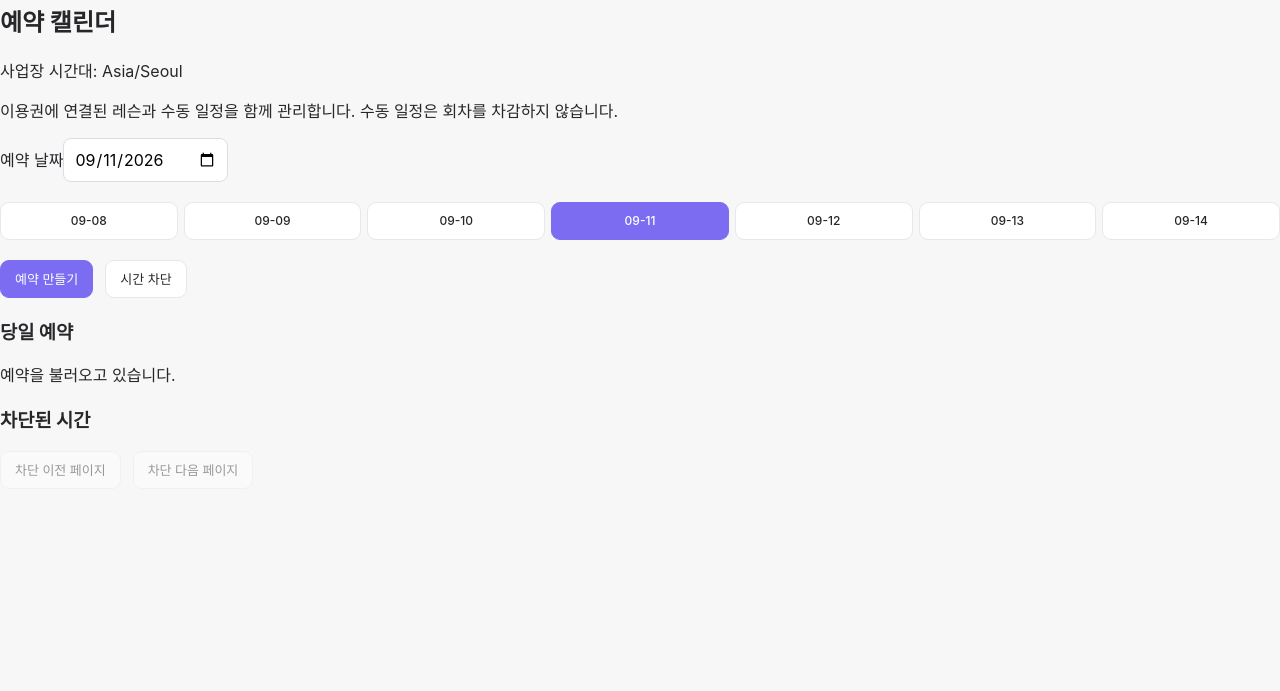
Test: creates an API-backed manual booking and displays a server conflict
Click the button "예약 만들기" at point(47, 279), box [0,260,93,298]
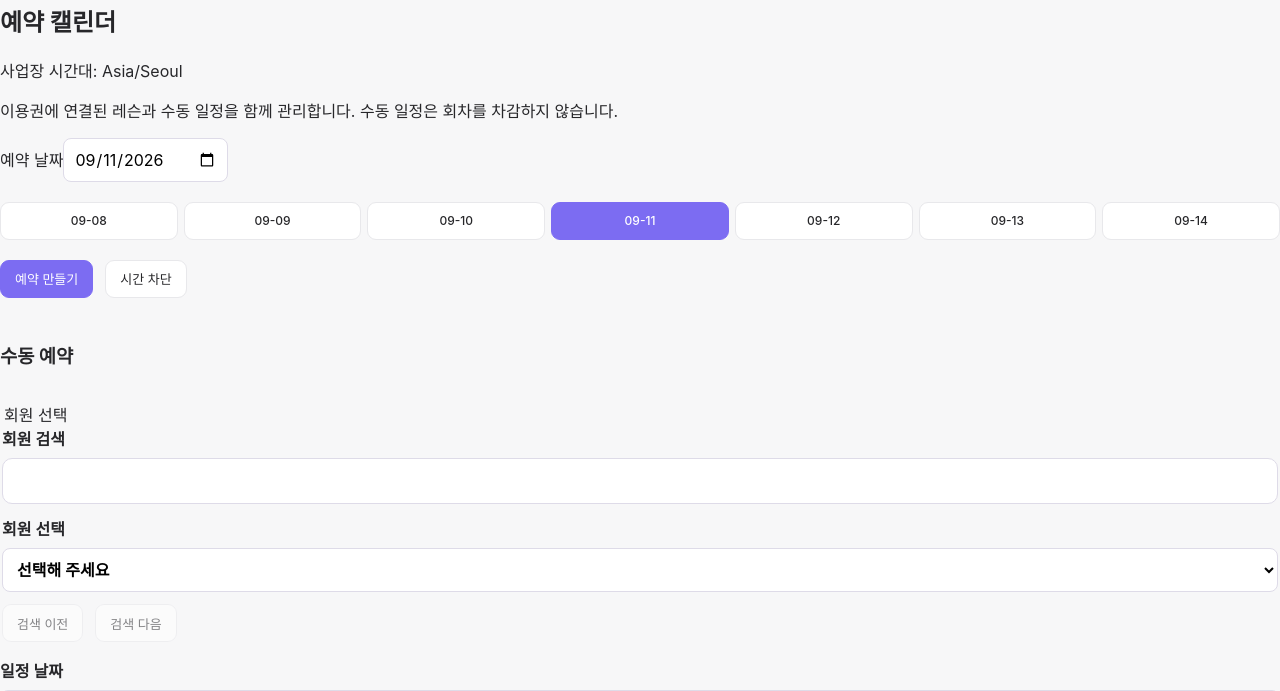
Select "Customer · 01012345678" in the dropdown labelled "회원 선택" at point(640, 570), box [2,548,1278,592]
(page scrolled)
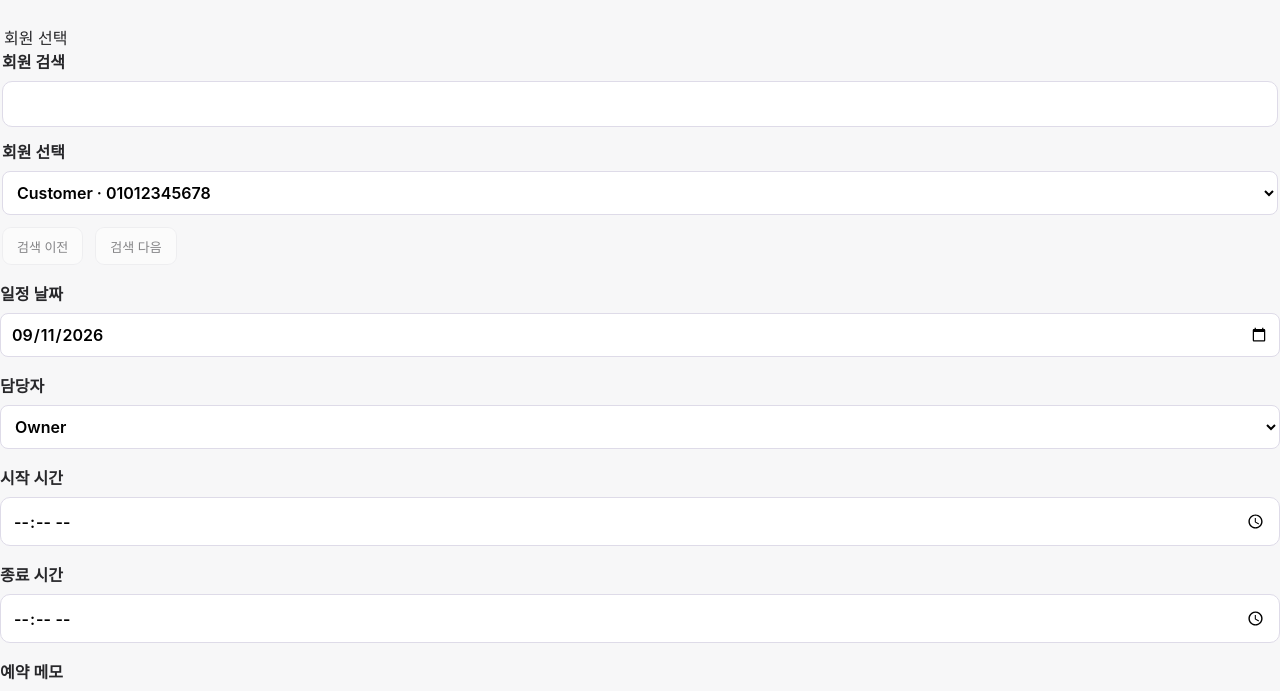
Type "2030-01-01" into the date field labelled "일정 날짜" at point(640, 335), box [0,313,1279,357]
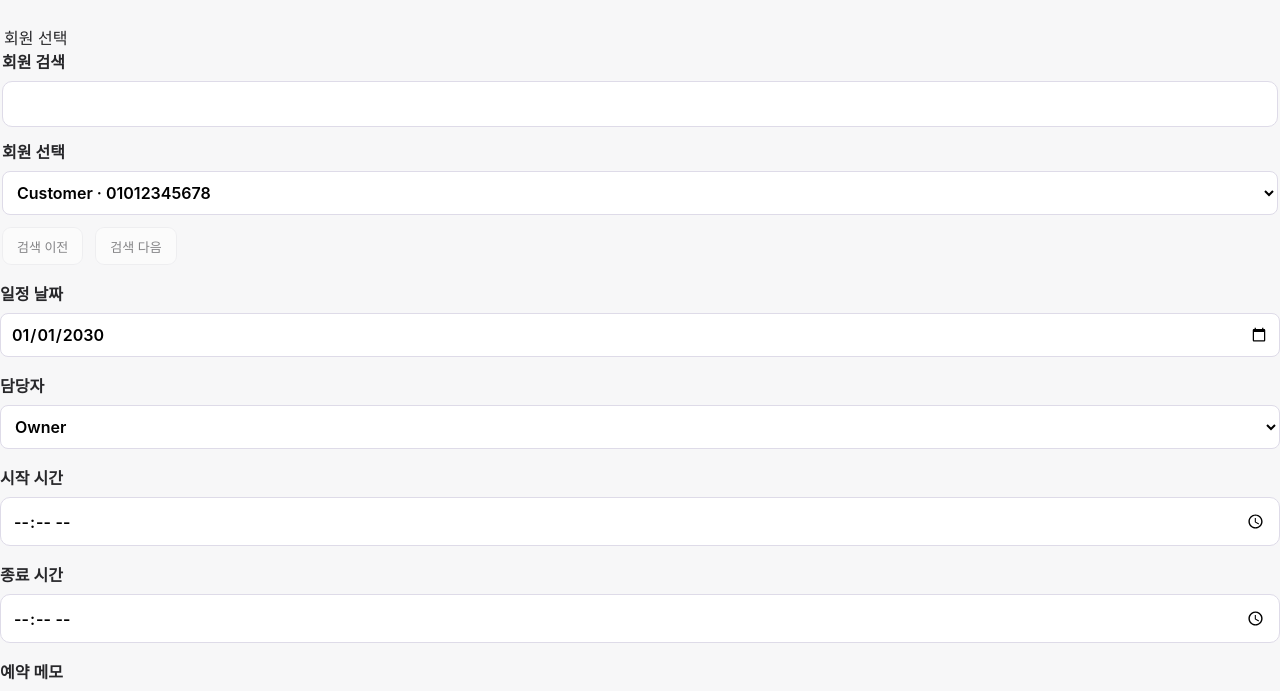
Type "10:00" into the time field labelled "시작 시간" at point(640, 522), box [0,497,1279,546]
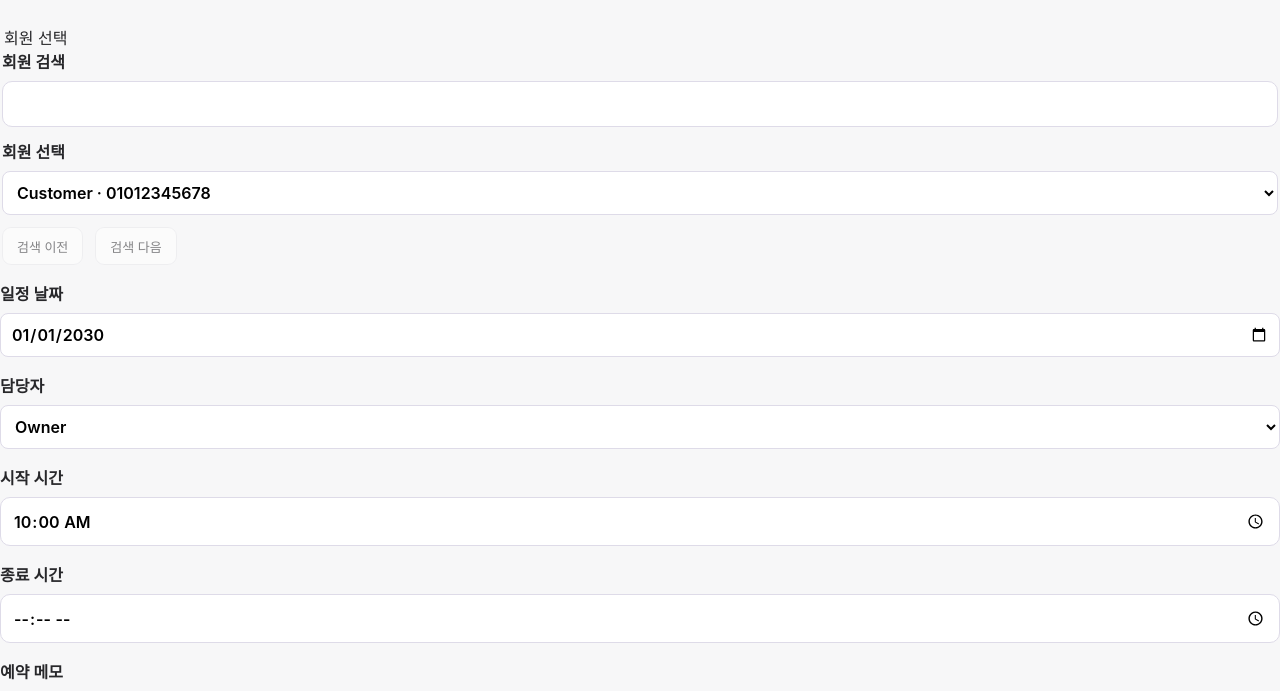
Type "11:00" into the time field labelled "종료 시간" at point(640, 618), box [0,594,1279,643]
(page scrolled)
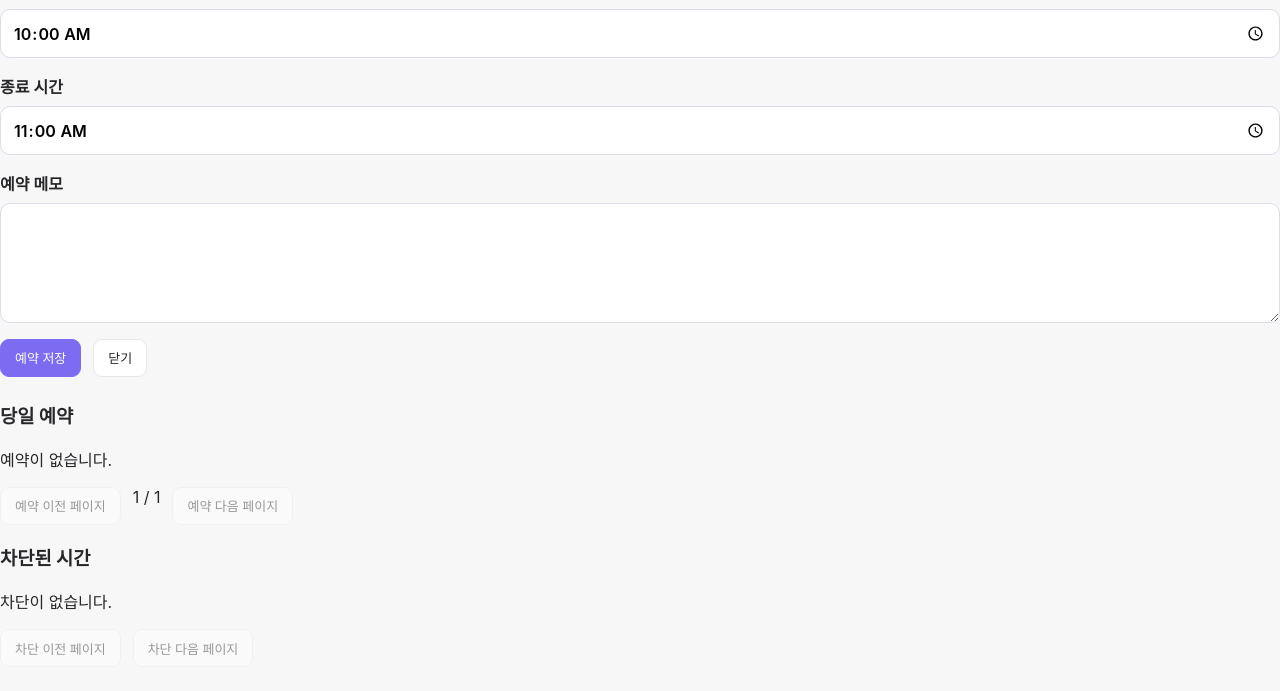
Click the button "예약 저장" at point(41, 358), box [0,339,81,377]
(page scrolled)
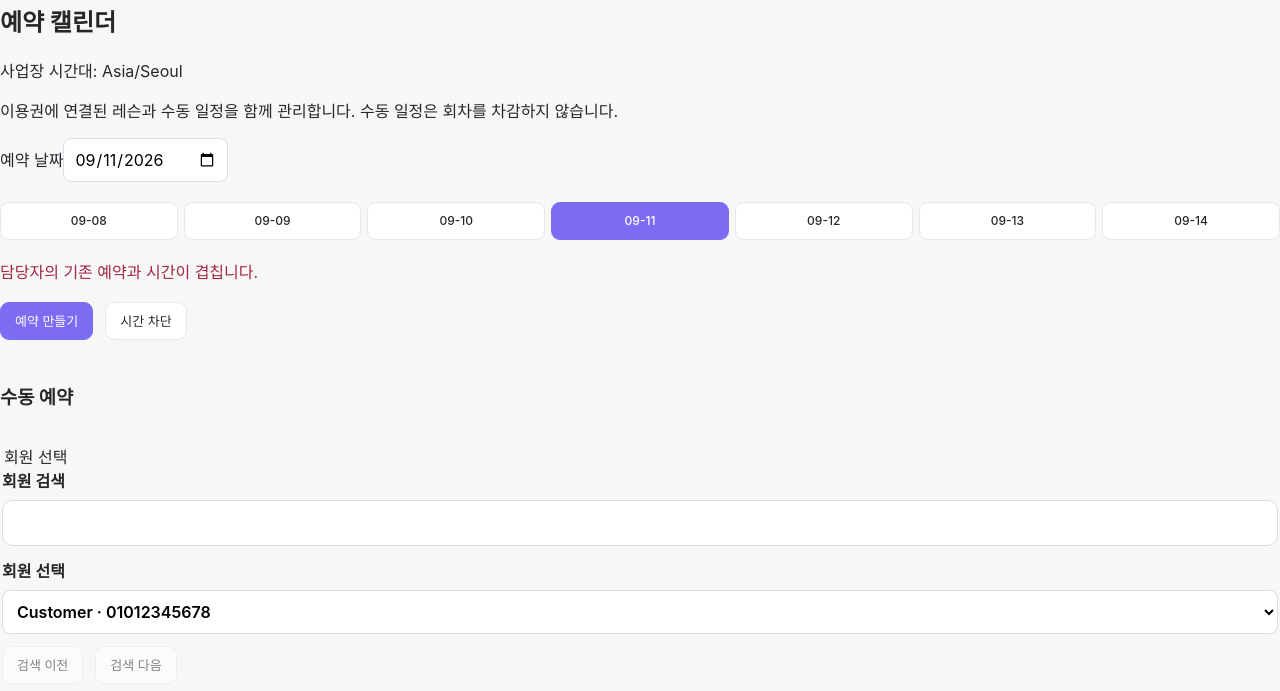
Expected: the text "담당자의 기존 예약과 시간이 겹칩니다." is shown, [0,262,258,282]
